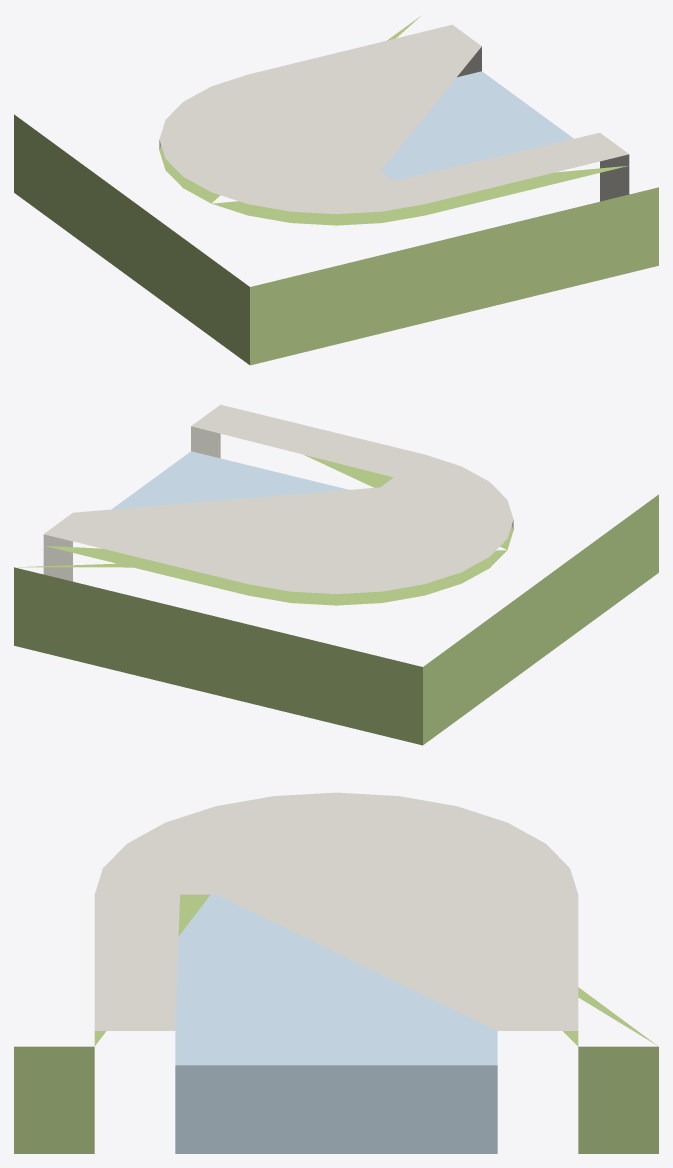
File: roadtile-273.glb
3 views of the same model, one above another, from view 1: azimuth 30°, elevation 25°; view 2: azimuth 150°, elevation 25°; view 3: azimuth 270°, elevation 25° (orthographic). The views are drawn at different scales.
Visible parts, largest first — view 1: Mesh1 Group1 Model; view 2: Mesh1 Group1 Model; view 3: Mesh1 Group1 Model.
Boxes of the visible parts, bbox=[...] form: Mesh1 Group1 Model: bbox=[14, 16, 658, 365]; Mesh1 Group1 Model: bbox=[14, 404, 658, 745]; Mesh1 Group1 Model: bbox=[14, 792, 658, 1153].
Bounding box in the file's own units: 3 × 0.63 × 3.
